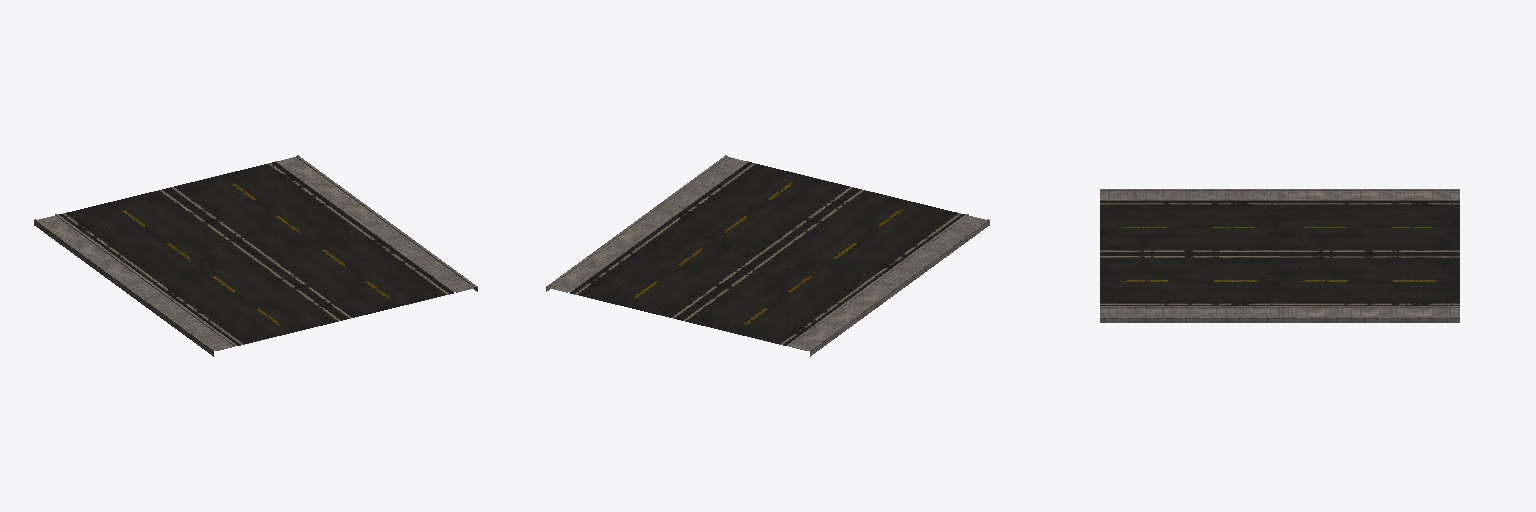
3 renders of one model, left to right at view 1: azimuth 30°, elevation 25°; view 2: azimuth 150°, elevation 25°; view 3: azimuth 270°, elevation 25°, orthographic.
Parts seen in each view (by area): view 1: 7_Road-Streight-Double; view 2: 7_Road-Streight-Double; view 3: 7_Road-Streight-Double.
Boxes of the visible parts, x1=… form: 7_Road-Streight-Double: x1=34, y1=155, x2=477, y2=356; 7_Road-Streight-Double: x1=546, y1=155, x2=989, y2=356; 7_Road-Streight-Double: x1=1100, y1=189, x2=1459, y2=322.
Bounding box in the file's own units: 1.05 × 0.0219 × 1.24.
Materials: 1 (1 with a texture image).